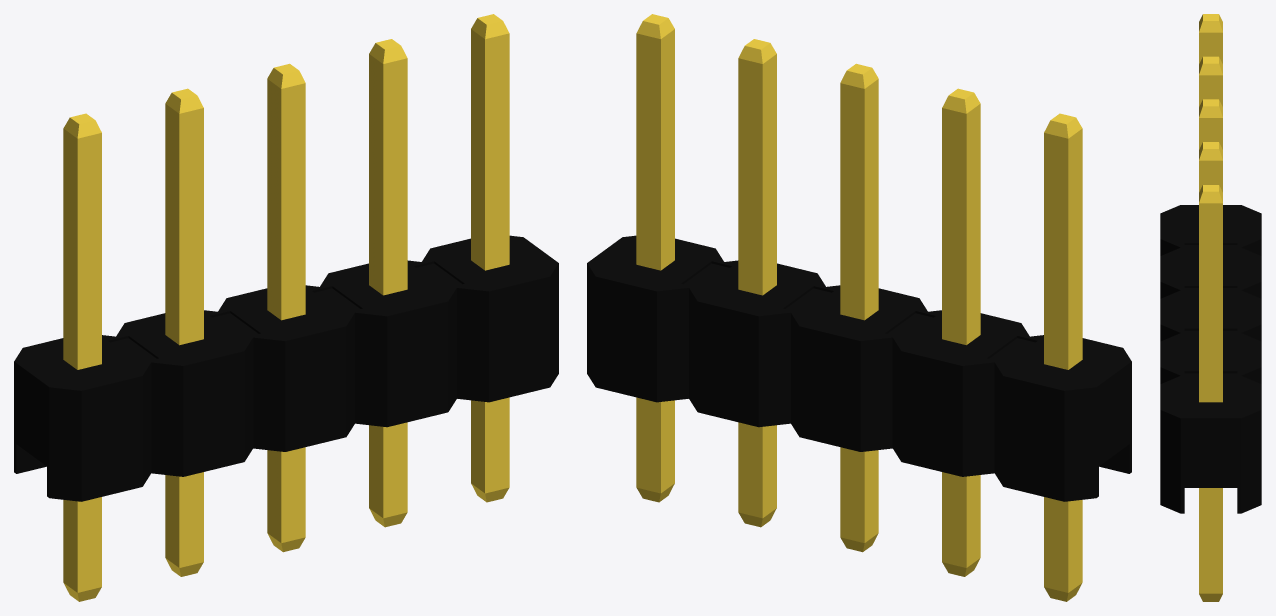
Rendered from pin_1x4_2.54mm_gold.glb.
3 renders of one model, left to right at view 1: azimuth 30°, elevation 25°; view 2: azimuth 150°, elevation 25°; view 3: azimuth 270°, elevation 25°, orthographic. The views are drawn at different scales.
Parts seen in each view (by area): view 1: Solid1, Solid3; view 2: Solid1, Solid3; view 3: Solid1, Solid3.
Part boxes in pixels (<box>): Solid1: <box>14,235,558,501</box>; Solid3: <box>63,14,509,601</box>; Solid1: <box>587,235,1131,501</box>; Solid3: <box>636,14,1082,601</box>; Solid1: <box>1160,205,1261,513</box>; Solid3: <box>1199,14,1222,601</box>.
Size of the model in its own units: 0.0125 by 0.0112 by 0.0025.
